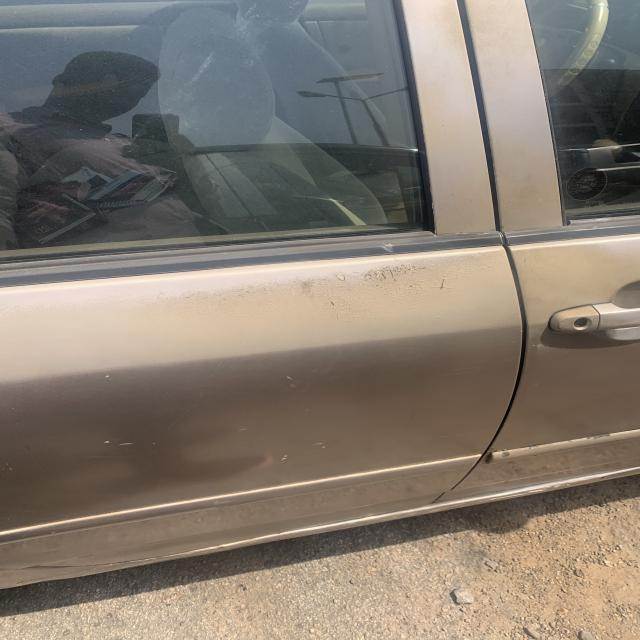paint-chip: (112, 248, 500, 329)
